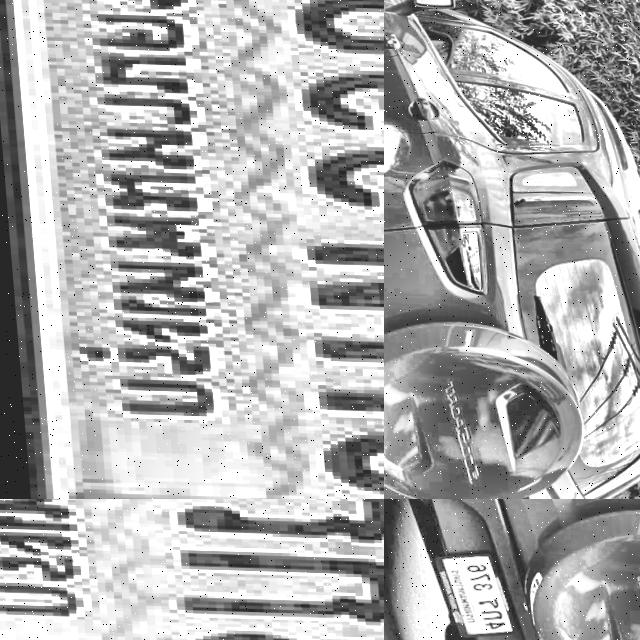license-plate: (0, 0, 384, 499), (0, 499, 384, 640), (422, 550, 510, 640)
